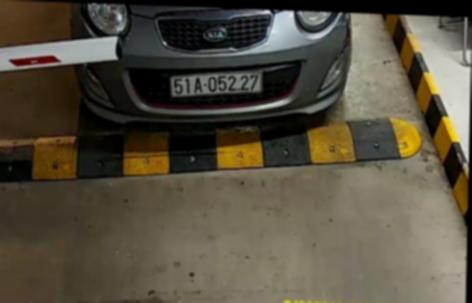License_Plate: (168, 67, 262, 97)
